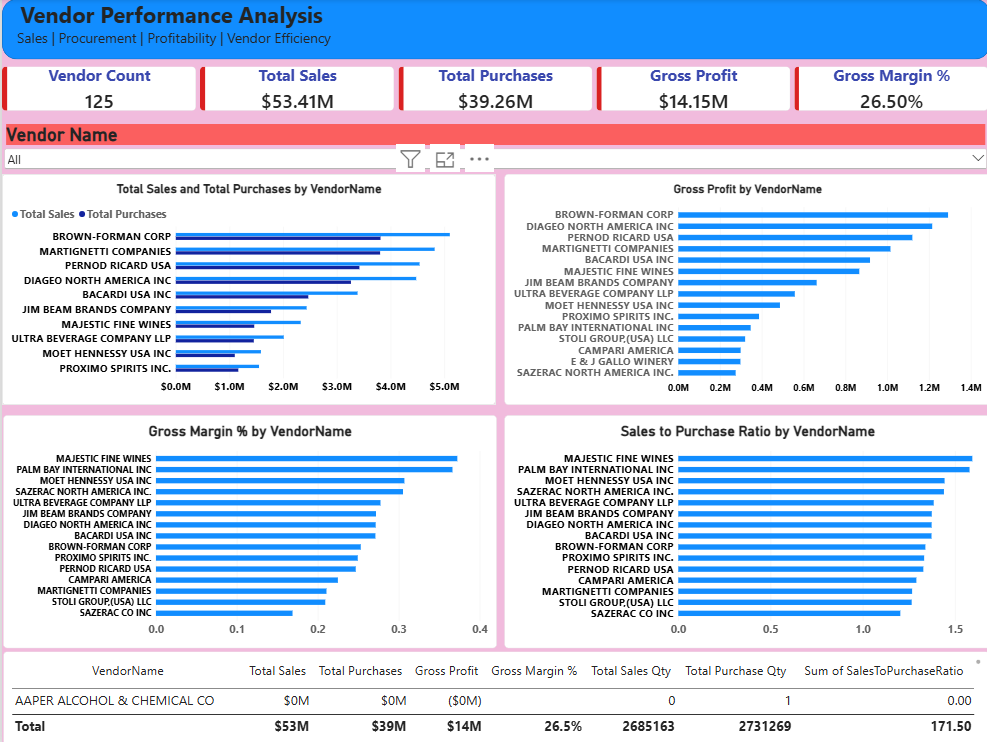

What the dashboard file says about the page in this screenshot:
{"tool":"powerbi","page":{"name":"Page 2","canvas":[1921,1450],"ordinal":1},"visuals":[{"type":"shape","box":[0,0,1920.4,117.3],"z":0},{"type":"textbox","box":[0,0,1920.4,117.3],"z":1},{"type":"cardVisual","fields":{"Data":["FactVendorSales.Vendor Count","FactVendorSales.Total Sales","FactVendorSales.Total Purchases","FactVendorSales.Gross Profit","FactVendorSales.Gross Margin %"]},"box":[0,131.7,1920.4,86.4],"z":2},{"type":"slicer","fields":{"Values":["DimVendor.VendorName"]},"box":[0,243,1919.4,116.6],"z":3},{"type":"clusteredBarChart","fields":{"Category":["DimVendor.VendorName"],"Y":["FactVendorSales.Total Sales","FactVendorSales.Total Purchases"]},"box":[0,340.5,959.2,448.7],"z":4},{"type":"clusteredBarChart","fields":{"Category":["DimVendor.VendorName"],"Y":["FactVendorSales.Gross Profit"]},"box":[976.1,340.5,944.8,448.7],"z":5},{"type":"clusteredBarChart","fields":{"Category":["DimVendor.VendorName"],"Y":["FactVendorSales.Gross Margin %"]},"box":[2.2,810.2,959.4,452.8],"z":6},{"type":"clusteredBarChart","fields":{"Category":["DimVendor.VendorName"],"Y":["FactVendorSales.Sales to Purchase Ratio"]},"box":[976,810,945,453],"z":7},{"type":"tableEx","fields":{"Values":["DimVendor.VendorName","FactVendorSales.Total Sales","FactVendorSales.Total Purchases","FactVendorSales.Gross Profit","FactVendorSales.Gross Margin %","FactVendorSales.Total Sales Qty","FactVendorSales.Total Purchase Qty","Sum(FactVendorSales.SalesToPurchaseRatio)"]},"box":[2.4,1268.3,1917,182.2],"z":8}]}

Visuals, with their boxes in screenshot pixels (x1, y1, x2, y2), scaled from the page's 1921x1450 canvas onto the 987x742 screenshot:
shape: crop(0, 0, 986, 60)
textbox: crop(0, 0, 986, 60)
cardVisual - FactVendorSales.Vendor Count x FactVendorSales.Total Sales: crop(0, 67, 986, 112)
slicer - DimVendor.VendorName: crop(0, 124, 986, 184)
clusteredBarChart - DimVendor.VendorName x FactVendorSales.Total Sales: crop(0, 174, 493, 404)
clusteredBarChart - DimVendor.VendorName x FactVendorSales.Gross Profit: crop(502, 174, 986, 404)
clusteredBarChart - DimVendor.VendorName x FactVendorSales.Gross Margin %: crop(1, 415, 494, 646)
clusteredBarChart - DimVendor.VendorName x FactVendorSales.Sales to Purchase Ratio: crop(501, 414, 986, 646)
tableEx - DimVendor.VendorName x FactVendorSales.Total Sales: crop(1, 649, 986, 741)
